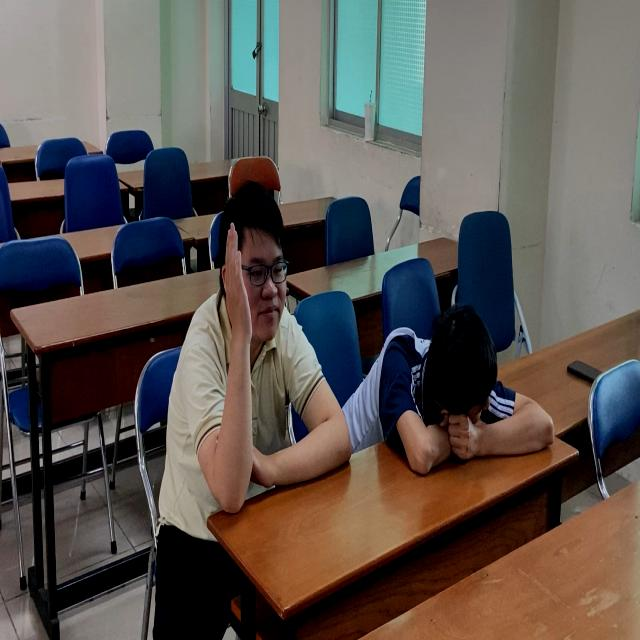raise_hand: (148, 175, 358, 535)
sleep: (354, 305, 560, 482)
